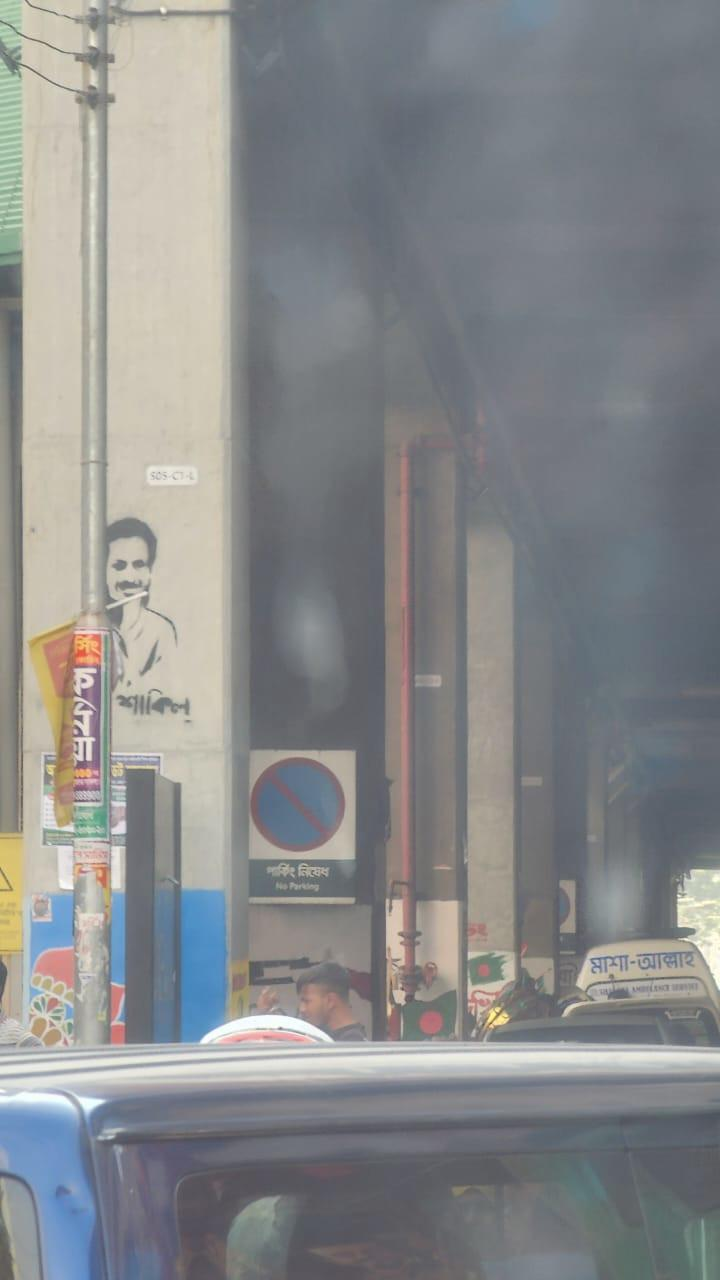No Parking: (248, 748, 360, 900)
